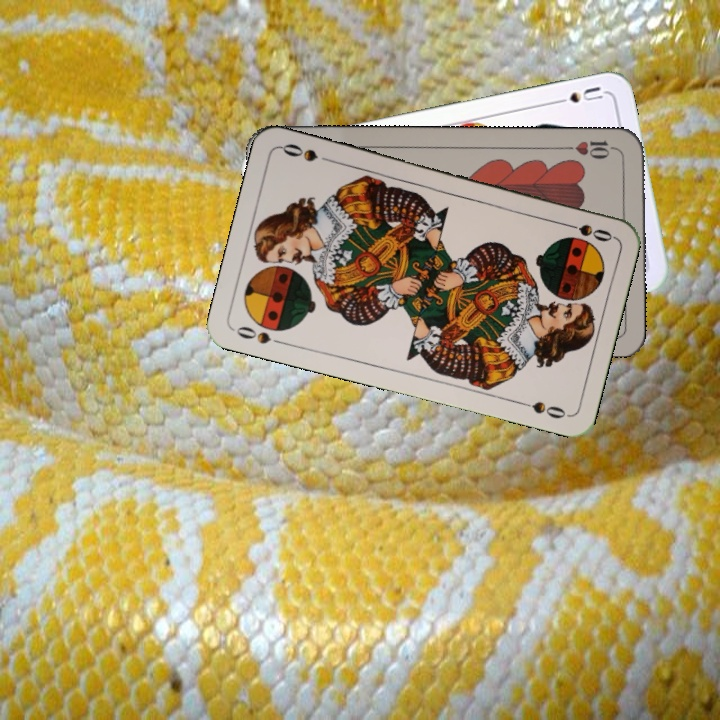H10: (561, 136, 620, 162)
SO: (557, 218, 615, 245), (232, 322, 288, 348)
SU: (548, 82, 606, 107)
